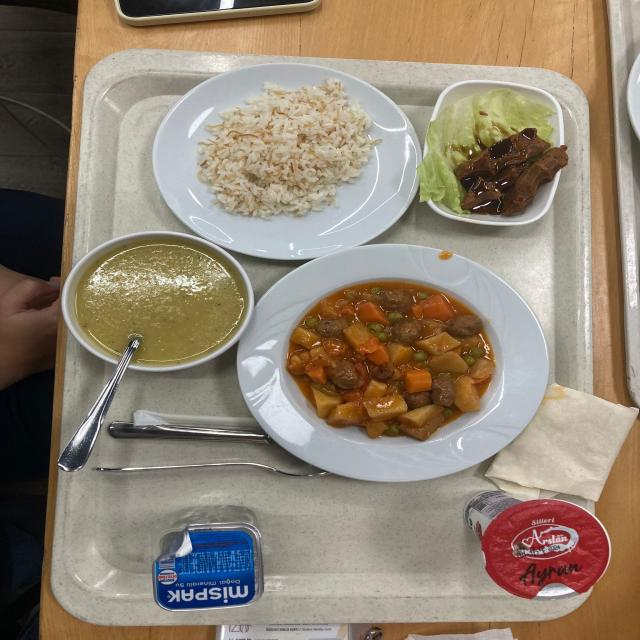ana_yemek: (287, 271, 489, 472), (206, 77, 384, 233)
corba: (78, 232, 250, 377)
yan_yemek: (429, 85, 570, 224)
